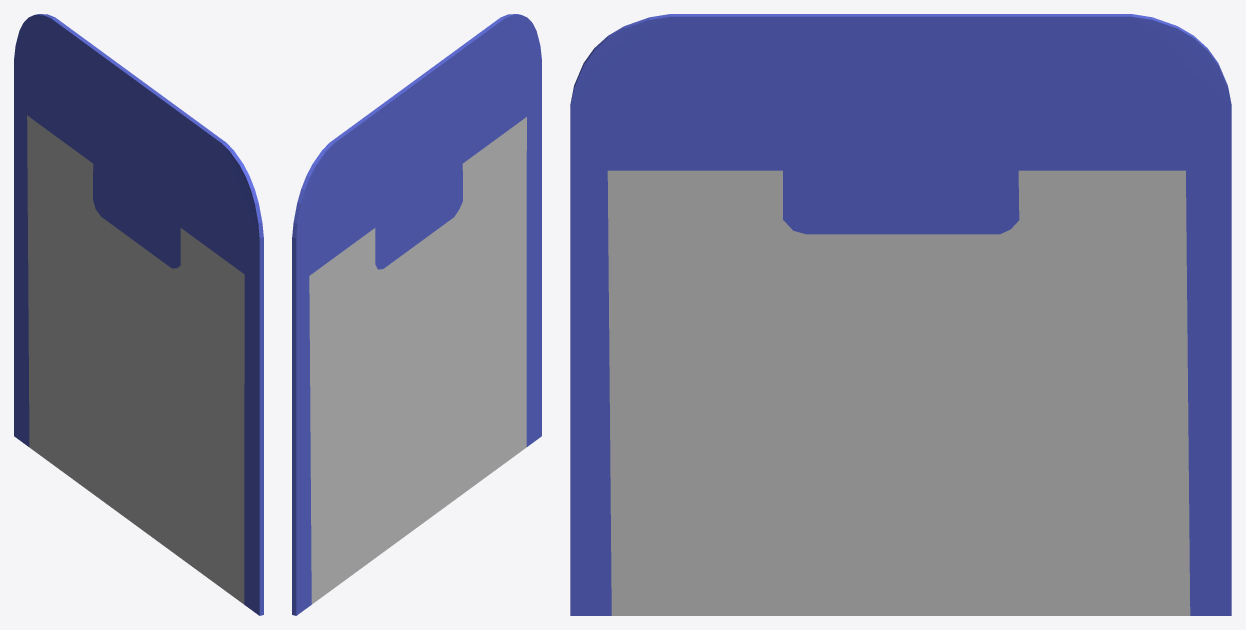
Rendered from Gate.fbx.
3 renders of one model, left to right at view 1: azimuth 30°, elevation 25°; view 2: azimuth 150°, elevation 25°; view 3: azimuth 270°, elevation 25°, orthographic. The views are drawn at different scales.
Visible parts, largest first — view 1: Gate; view 2: Gate; view 3: Gate.
Boxes of the visible parts, bbox=[...] form: Gate: bbox=[14, 14, 263, 615]; Gate: bbox=[292, 14, 541, 615]; Gate: bbox=[570, 14, 1231, 615].
Bounding box in the file's own units: 2 × 200 × 200.
